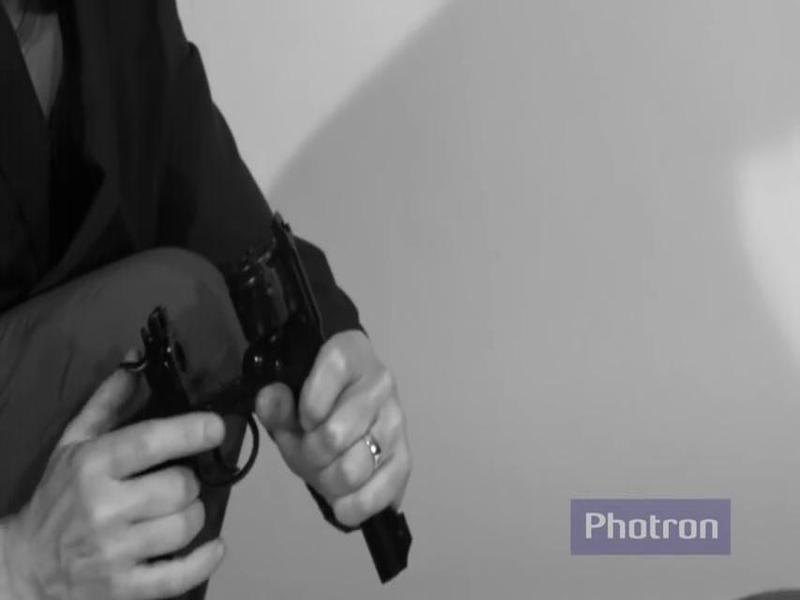Revolver: (95, 194, 456, 599)
